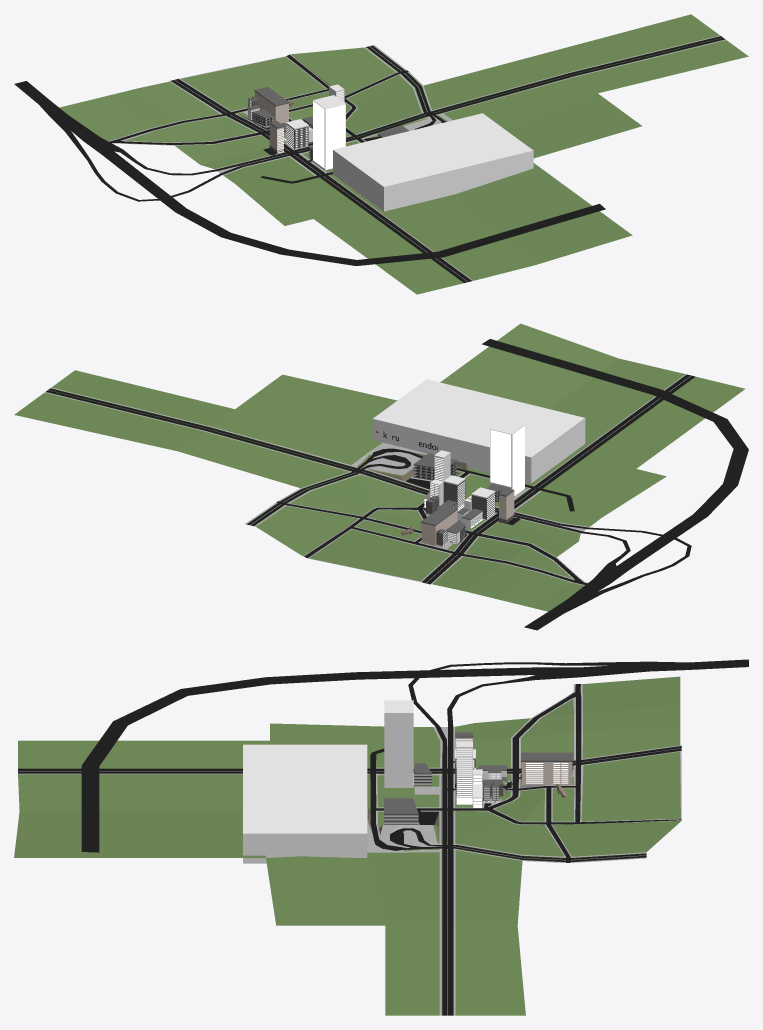
File: city3.glb
3 views of the same model, one above another, from view 1: azimuth 30°, elevation 25°; view 2: azimuth 150°, elevation 25°; view 3: azimuth 270°, elevation 25° (orthographic). The views are drawn at different scales.
Visible parts, largest first — view 1: road, 立方体.002, building.001, building.010, building.009; view 2: road, 立方体.002, building.001, building.010, building.014, building.007, building.009, building.016; view 3: road, 立方体.002, building.001, building.010, building.014, building.016.
Part boxes in pixels (<box>): road: <box>14,14,748,294</box>; 立方体.002: <box>333,113,533,211</box>; building.001: <box>313,95,345,170</box>; building.010: <box>254,86,289,123</box>; building.009: <box>286,119,308,149</box>; road: <box>14,323,748,630</box>; 立方体.002: <box>372,379,585,483</box>; building.001: <box>490,419,524,495</box>; building.010: <box>421,505,457,545</box>; building.014: <box>424,450,450,507</box>; building.007: <box>443,475,465,511</box>; building.009: <box>471,487,495,519</box>; building.016: <box>413,453,459,480</box>; road: <box>14,659,748,1015</box>; 立方体.002: <box>243,744,367,863</box>; building.001: <box>384,700,413,787</box>; building.010: <box>521,752,573,787</box>; building.014: <box>456,741,482,807</box>; building.016: <box>384,798,418,824</box>.
Bounding box in the file's own units: 1445 × 142 × 1244.
